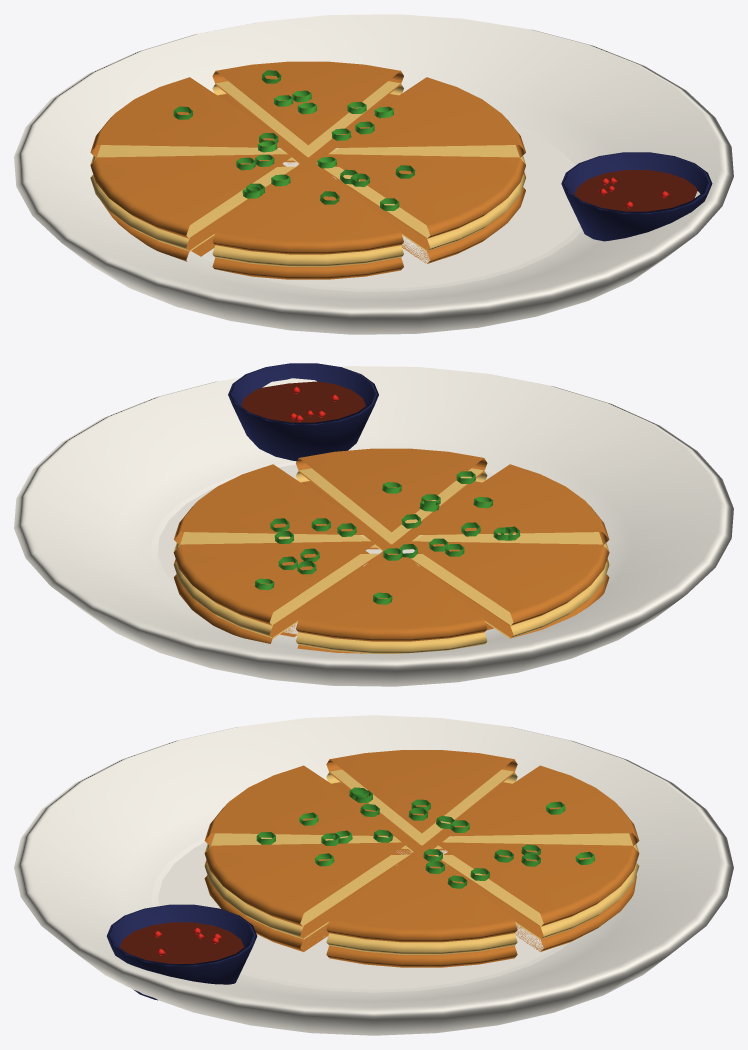
3 renders of one model, top to bottom at view 1: azimuth 30°, elevation 25°; view 2: azimuth 150°, elevation 25°; view 3: azimuth 270°, elevation 25°, orthographic.
Visible parts, largest first — view 1: plate, pancake, plate_well, sauce_dish, scallion, sauce; view 2: plate, pancake, sauce_dish, scallion, sauce, plate_well; view 3: plate, pancake, plate_well, sauce_dish, scallion, sauce.
Part boxes in pixels (x1=…): plate: x1=14, y1=14, x2=733, y2=334; pancake: x1=90, y1=61, x2=526, y2=279; plate_well: x1=205, y1=129, x2=579, y2=288; sauce_dish: x1=561, y1=152, x2=712, y2=241; scallion: x1=173, y1=70, x2=415, y2=210; sauce: x1=574, y1=170, x2=697, y2=211; plate: x1=14, y1=366, x2=733, y2=686; pancake: x1=173, y1=448, x2=609, y2=653; sauce_dish: x1=228, y1=363, x2=378, y2=461; scallion: x1=254, y1=471, x2=520, y2=604; sauce: x1=241, y1=381, x2=365, y2=422; plate_well: x1=158, y1=464, x2=494, y2=634; plate: x1=14, y1=715, x2=733, y2=1035; pancake: x1=204, y1=750, x2=639, y2=967; plate_well: x1=158, y1=836, x2=555, y2=989; sauce_dish: x1=106, y1=904, x2=257, y2=1000; scallion: x1=256, y1=787, x2=595, y2=888; sauce: x1=119, y1=922, x2=244, y2=963.
Size of the model in its own units: 0.21 by 0.0228 by 0.21.
